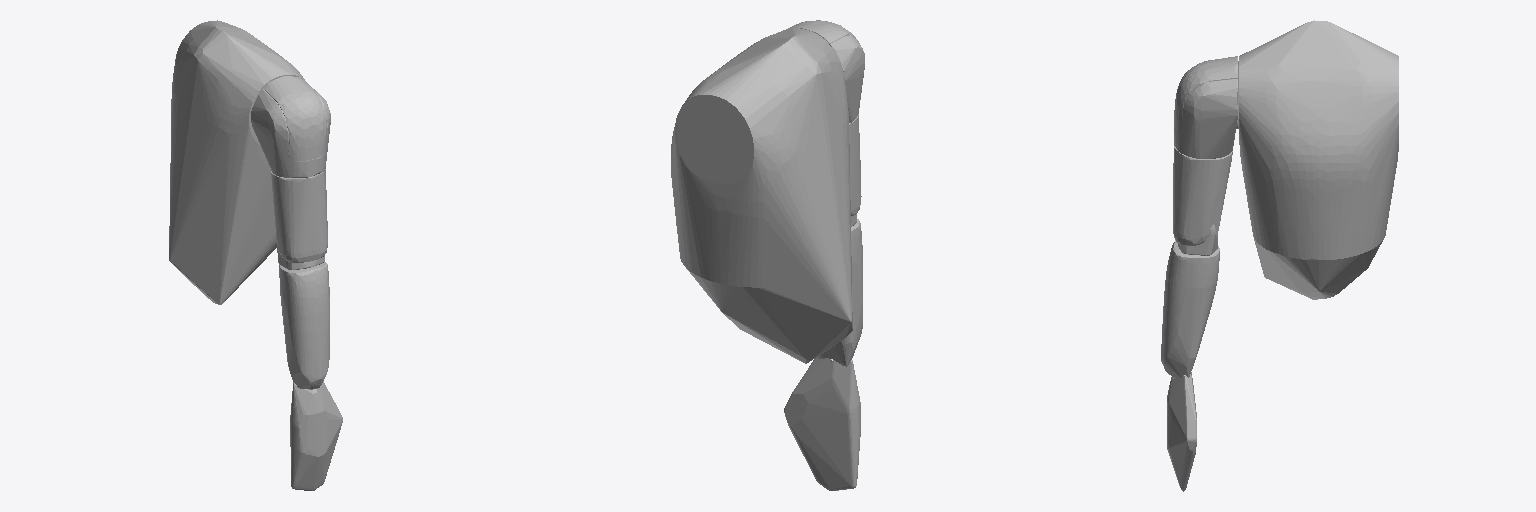
The robot description file, URDF, robot "P5_right_arm":
<?xml version="1.0" encoding="utf-8"?>
<!-- This URDF was automatically created by SolidWorks to URDF Exporter! Originally created by [author] ([email redacted]) 
     Commit Version: 1.6.0-4-g7f85cfe  Build Version: 1.6.7995.38578
     For more information, please see http://wiki.ros.org/sw_urdf_exporter -->
<robot name="P5_right_arm">
    <link
        name="link_wy">
        <inertial>
            <!--连杆质心相对于连杆坐标系下的位置-->
            <origin                                    
                xyz="-0.014502 -0.0015171 0.24091"
                rpy="0 0 0" />
            <mass
                value="15.996" />
            <inertia
                ixx="0.22953"
                ixy="-0.00061036"
                ixz="0.0056717"
                iyy="0.18298"
                iyz="-0.0013464"
                izz="0.11524" />
        </inertial>
        <visual>
            <origin
                xyz="0 0 0"
                rpy="0 0 0" />
            <geometry>
                <mesh
                filename="../meshes/link_wy.STL" />
            </geometry>
            <material
                name="">
                <color
                rgba="0.75294 0.75294 0.75294 1" />
            </material>
        </visual>
        <collision>
            <origin
                xyz="0 0 0"
                rpy="0 0 0" />
            <geometry>
                <mesh
                filename="../meshes/link_wy.STL" />
            </geometry>
        </collision>
    </link>

    <link
        name="link_ra1">
        <inertial>
            <origin
                xyz="0.0017444 0.0032911 -0.00048706"
                rpy="0 0 0" />
            <mass
                value="1.5214" />
            <inertia
                ixx="0.0020202"
                ixy="1.53E-06"
                ixz="8E-08"
                iyy="0.0020419"
                iyz="-2.22E-05"
                izz="0.0021238" />
        </inertial>
        <visual>
            <origin
                xyz="0 0 0"
                rpy="0 0 0" />
            <geometry>
                <mesh
                filename="../meshes/link_ra1.STL" />
            </geometry>
            <material
                name="">
                <color
                rgba="0.75294 0.75294 0.75294 1" />
            </material>
        </visual>
        <collision>
            <origin
                xyz="0 0 0"
                rpy="0 0 0" />
            <geometry>
                <mesh
                filename="../meshes/link_ra1.STL" />
            </geometry>
        </collision>
  </link>
  <joint
    name="joint_ra1"
    type="revolute">
    <origin
      xyz="-0.0079 -0.19799 0.346"
      rpy="0 0 0" />
    <parent
      link="link_wy" />
    <child
      link="link_ra1" />
    <axis
      xyz="0 1 0" />
    <limit
      lower="-2.7576"
      upper="2.7576"
      effort="0"
      velocity="0" />
  </joint>
  <link
    name="link_ra2">
    <inertial>
      <origin
        xyz="0.00266 -0.006084 -0.044177"
        rpy="0 0 0" />
      <mass
        value="0.5934" />
      <inertia
        ixx="0.0019946"
        ixy="-1.051E-05"
        ixz="-5.194E-05"
        iyy="0.0027114"
        iyz="-0.000263"
        izz="0.0017907" />
    </inertial>
    <visual>
      <origin
        xyz="0 0 0"
        rpy="0 0 0" />
      <geometry>
        <mesh
          filename="../meshes/link_ra2.STL" />
      </geometry>
      <material
        name="">
        <color
          rgba="0.75294 0.75294 0.75294 1" />
      </material>
    </visual>
    <collision>
      <origin
        xyz="0 0 0"
        rpy="0 0 0" />
      <geometry>
        <mesh
          filename="../meshes/link_ra2.STL" />
      </geometry>
    </collision>
  </link>
  <joint
    name="joint_ra2"
    type="revolute">
    <origin
      xyz="0 0 0"
      rpy="0 0 0" />
    <parent
      link="link_ra1" />
    <child
      link="link_ra2" />
    <axis
      xyz="1 0 0" />
    <limit
      lower="-2.8798"
      upper="0.2618"
      effort="0"
      velocity="0" />
  </joint>
  <link
    name="link_ra3">
    <inertial>
      <origin
        xyz="0.0043044 0.0005686 -0.086242"
        rpy="0 0 0" />
      <mass
        value="1.8035" />
      <inertia
        ixx="0.008233"
        ixy="-3.217E-05"
        ixz="0.00050344"
        iyy="0.0082866"
        iyz="0.00018591"
        izz="0.0017181" />
    </inertial>
    <visual>
      <origin
        xyz="0 0 0"
        rpy="0 0 0" />
      <geometry>
        <mesh
          filename="../meshes/link_ra3.STL" />
      </geometry>
      <material
        name="">
        <color
          rgba="0.75294 0.75294 0.75294 1" />
      </material>
    </visual>
    <collision>
      <origin
        xyz="0 0 0"
        rpy="0 0 0" />
      <geometry>
        <mesh
          filename="../meshes/link_ra3.STL" />
      </geometry>
    </collision>
  </link>
  <joint
    name="joint_ra3"
    type="revolute">
    <origin
      xyz="5.871E-05 -0.015599 -0.10454"
      rpy="-0.087272 0 0" />
    <parent
      link="link_ra2" />
    <child
      link="link_ra3" />
    <axis
      xyz="0 0 1" />
    <limit
      lower="-2.618"
      upper="2.618"
      effort="0"
      velocity="0" />
  </joint>
  <link
    name="link_ra4">
    <inertial>
      <origin
        xyz="0.0037512 -0.00059846 -0.022713"
        rpy="0 0 0" />
      <mass
        value="0.19646" />
      <inertia
        ixx="0.00014929"
        ixy="-5.55E-06"
        ixz="-2.026E-05"
        iyy="0.0002863"
        iyz="1.87E-06"
        izz="0.00023341" />
    </inertial>
    <visual>
      <origin
        xyz="0 0 0"
        rpy="0 0 0" />
      <geometry>
        <mesh
          filename="../meshes/link_ra4.STL" />
      </geometry>
      <material
        name="">
        <color
          rgba="0.75294 0.75294 0.75294 1" />
      </material>
    </visual>
    <collision>
      <origin
        xyz="0 0 0"
        rpy="0 0 0" />
      <geometry>
        <mesh
          filename="../meshes/link_ra4.STL" />
      </geometry>
    </collision>
  </link>
  <joint
    name="joint_ra4"
    type="revolute">
    <origin
      xyz="0.00075225 0.0049994 -0.154"
      rpy="0 1.3325E-05 -0.00086091" />
    <parent
      link="link_ra3" />
    <child
      link="link_ra4" />
    <axis
      xyz="1 0 0" />
    <limit
      lower="-0.1745"
      upper="2.2166"
      effort="0"
      velocity="0" />
  </joint>
  <link
    name="link_ra5">
    <inertial>
      <origin
        xyz="-8.05E-05 -0.00037564 -0.15082"
        rpy="0 0 0" />
      <mass
        value="2.0103" />
      <inertia
        ixx="0.013613"
        ixy="2.4E-07"
        ixz="1.157E-05"
        iyy="0.013825"
        iyz="-0.00019251"
        izz="0.0018716" />
    </inertial>
    <visual>
      <origin
        xyz="0 0 0"
        rpy="0 0 0" />
      <geometry>
        <mesh
          filename="../meshes/link_ra5.STL" />
      </geometry>
      <material
        name="">
        <color
          rgba="0.75294 0.75294 0.75294 1" />
      </material>
    </visual>
    <collision>
      <origin
        xyz="0 0 0"
        rpy="0 0 0" />
      <geometry>
        <mesh
          filename="../meshes/link_ra5.STL" />
      </geometry>
    </collision>
  </link>
  <joint
    name="joint_ra5"
    type="revolute">
    <origin
      xyz="0 0 0"
      rpy="0 0 0" />
    <parent
      link="link_ra4" />
    <child
      link="link_ra5" />
    <axis
      xyz="0 0 1" />
    <limit
      lower="-2.9147"
      upper="2.9147"
      effort="0"
      velocity="0" />
  </joint>
  <link
    name="link_ra6">
    <inertial>
      <origin
        xyz="0 0.010485 -1.3192E-05"
        rpy="0 0 0" />
      <mass
        value="0.0077626" />
      <inertia
        ixx="8.9E-07"
        ixy="0"
        ixz="0"
        iyy="1.4E-07"
        iyz="0"
        izz="9.3E-07" />
    </inertial>
    <visual>
      <origin
        xyz="0 0 0"
        rpy="0 0 0" />
      <geometry>
        <mesh
          filename="../meshes/link_ra6.STL" />
      </geometry>
      <material
        name="">
        <color
          rgba="0.89804 0.91765 0.92941 1" />
      </material>
    </visual>
    <collision>
      <origin
        xyz="0 0 0"
        rpy="0 0 0" />
      <geometry>
        <mesh
          filename="../meshes/link_ra6.STL" />
      </geometry>
    </collision>
  </link>
  <joint
    name="joint_ra6"
    type="revolute">
    <origin
      xyz="0 -0.02371 -0.29585"
      rpy="-0.045412 0 0" />
    <parent
      link="link_ra5" />
    <child
      link="link_ra6" />
    <axis
      xyz="1 0 0" />
    <limit
      lower="-0.9948"
      upper="0.9948"
      effort="0"
      velocity="0" />
  </joint>
  <link
    name="link_ra7">
    <inertial>
      <origin
        xyz="0.0086251 0.034032 -0.099639"
        rpy="0 0 0" />
      <mass
        value="0.71188" />
      <inertia
        ixx="0.0024868"
        ixy="-9.972E-05"
        ixz="6.088E-05"
        iyy="0.0029122"
        iyz="0.00026261"
        izz="0.00065847" />
    </inertial>
    <visual>
      <origin
        xyz="0 0 0"
        rpy="0 0 0" />
      <geometry>
        <mesh
          filename="../meshes/link_ra7.STL" />
      </geometry>
      <material
        name="">
        <color
          rgba="0.75294 0.75294 0.75294 1" />
      </material>
    </visual>
    <collision>
      <origin
        xyz="0 0 0"
        rpy="0 0 0" />
      <geometry>
        <mesh
          filename="../meshes/link_ra7.STL" />
      </geometry>
    </collision>
  </link>
  <joint
    name="joint_ra7"
    type="revolute">
    <origin
      xyz="0 0 0"
      rpy="0 0 0" />
    <parent
      link="link_ra6" />
    <child
      link="link_ra7" />
    <axis
      xyz="0 1 0" />
    <limit
      lower="-1.2036"
      upper="0.857"
      effort="0"
      velocity="0" />
  </joint>

  <link name="FT_link">
    <inertial>
      <mass value="0"/>
      <origin rpy="0 0 0" xyz="0 0 0"/>
      <inertia ixx="0" ixy="0" ixz="0" iyy="0" iyz="0" izz="0"/>
    </inertial>
    <collision>
      <geometry>
        <box size="0.01 0.01 0.01"/>
      </geometry>
      <origin rpy="0 0 0" xyz="-0.01 0 0"/>
    </collision>
  </link>

  <joint
    name="FT_sensor"
    type="fixed">
    <origin
      xyz="0 0 -0.008"
      rpy="0 0 0" />
    <parent
      link="link_ra7" />
    <child
      link="FT_link" />
  </joint>
</robot>

--- Render facts (derived) ---
The picture shows the robot from 3 angles, left to right: view 1: azimuth 30°, elevation 25°; view 2: azimuth 150°, elevation 25°; view 3: azimuth 270°, elevation 25°; orthographic projection.
Model P5_right_arm with 9 links and 8 joints (7 revolute, 1 fixed), rooted at link_wy, posed all joints at 0.
Links seen in each view (by area): view 1: link_wy, link_ra5, link_ra3, link_ra7, link_ra1, link_ra2; view 2: link_wy, link_ra7, link_ra5, link_ra2, link_ra3, link_ra1; view 3: link_wy, link_ra5, link_ra3, link_ra2, link_ra7, link_ra1, link_ra4.
Link boxes in pixels (bbox=[...]): link_wy: bbox=[169, 20, 306, 304]; link_ra5: bbox=[279, 262, 329, 389]; link_ra3: bbox=[271, 169, 327, 262]; link_ra7: bbox=[290, 381, 342, 490]; link_ra1: bbox=[263, 76, 326, 160]; link_ra2: bbox=[251, 83, 330, 177]; link_wy: bbox=[671, 28, 852, 363]; link_ra7: bbox=[784, 357, 860, 490]; link_ra5: bbox=[818, 219, 862, 366]; link_ra2: bbox=[829, 35, 864, 122]; link_ra3: bbox=[849, 114, 861, 215]; link_ra1: bbox=[788, 20, 855, 43]; link_wy: bbox=[1239, 20, 1398, 299]; link_ra5: bbox=[1161, 240, 1219, 377]; link_ra3: bbox=[1173, 146, 1232, 245]; link_ra2: bbox=[1174, 79, 1237, 158]; link_ra7: bbox=[1167, 372, 1196, 491]; link_ra1: bbox=[1174, 56, 1238, 132]; link_ra4: bbox=[1178, 224, 1217, 255].
Bounding box of the posed robot: 0.311 × 0.4397 × 0.9262 m (x, y, z).
8 mesh visuals loaded from 8 distinct referenced files (8 binary STL).
